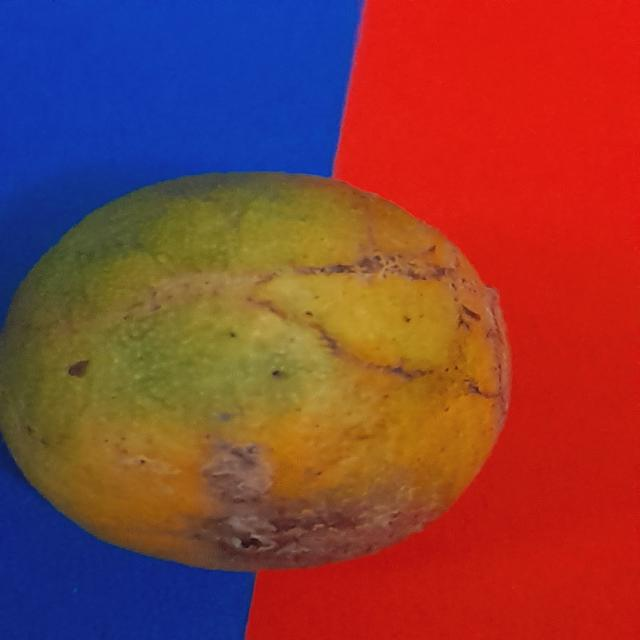thrips: (17, 171, 518, 570)
